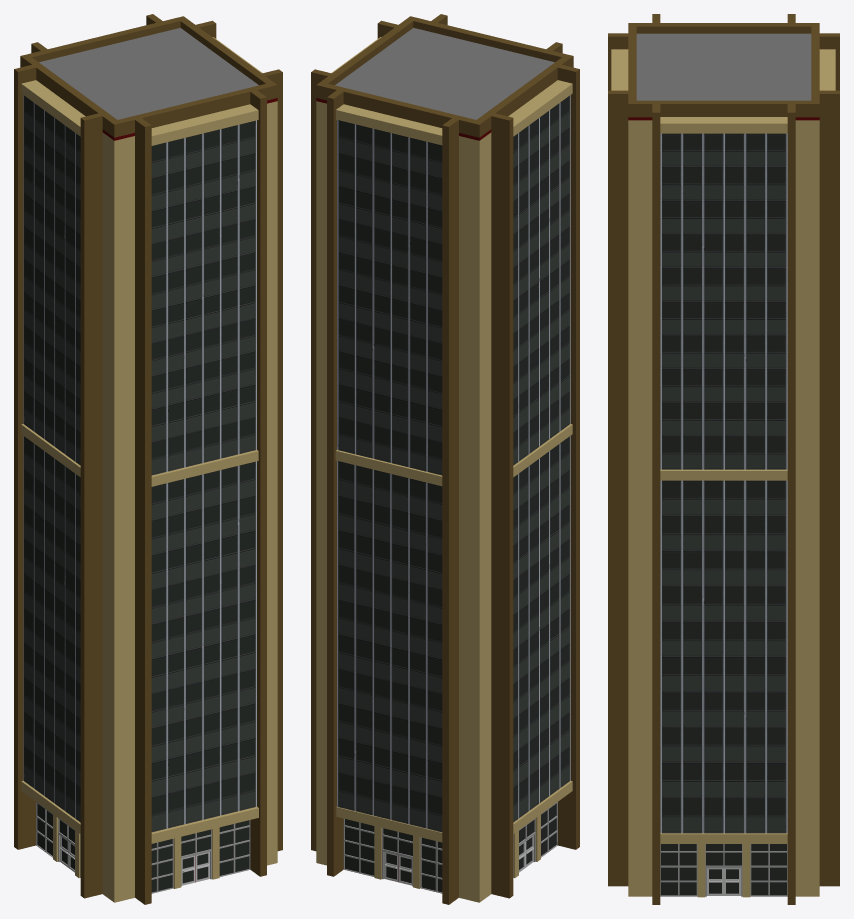
3 views of the same model, side by side, from view 1: azimuth 30°, elevation 25°; view 2: azimuth 150°, elevation 25°; view 3: azimuth 270°, elevation 25° (orthographic).
Visible parts, largest first — view 1: EC-02; view 2: EC-02; view 3: EC-02.
Boxes of the visible parts, x1,y1,x2,y2 form: EC-02: (14, 14, 282, 904); EC-02: (311, 14, 579, 904); EC-02: (608, 14, 839, 904).
Size of what is drawn, in the model's own units: 18.36 by 68.77 by 18.23.
